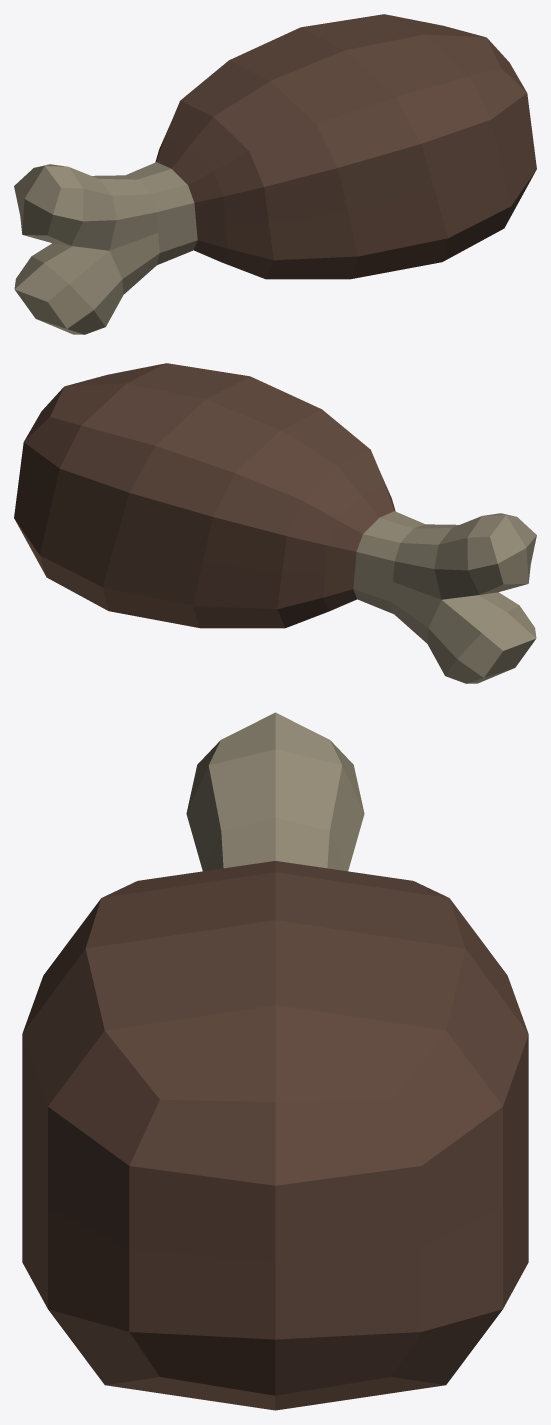
File: chicken_leg.glb
The picture shows the model from 3 angles, top to bottom: view 1: azimuth 30°, elevation 25°; view 2: azimuth 150°, elevation 25°; view 3: azimuth 270°, elevation 25°; orthographic projection. The views are drawn at different scales.
Parts seen in each view (by area): view 1: ChickenLeg; view 2: ChickenLeg; view 3: ChickenLeg.
Part boxes in pixels (x1=…): ChickenLeg: x1=14, y1=14, x2=536, y2=334; ChickenLeg: x1=14, y1=363, x2=536, y2=683; ChickenLeg: x1=22, y1=712, x2=528, y2=1410.
Size of the model in its own units: 1.03 by 0.4297 by 0.4522.
